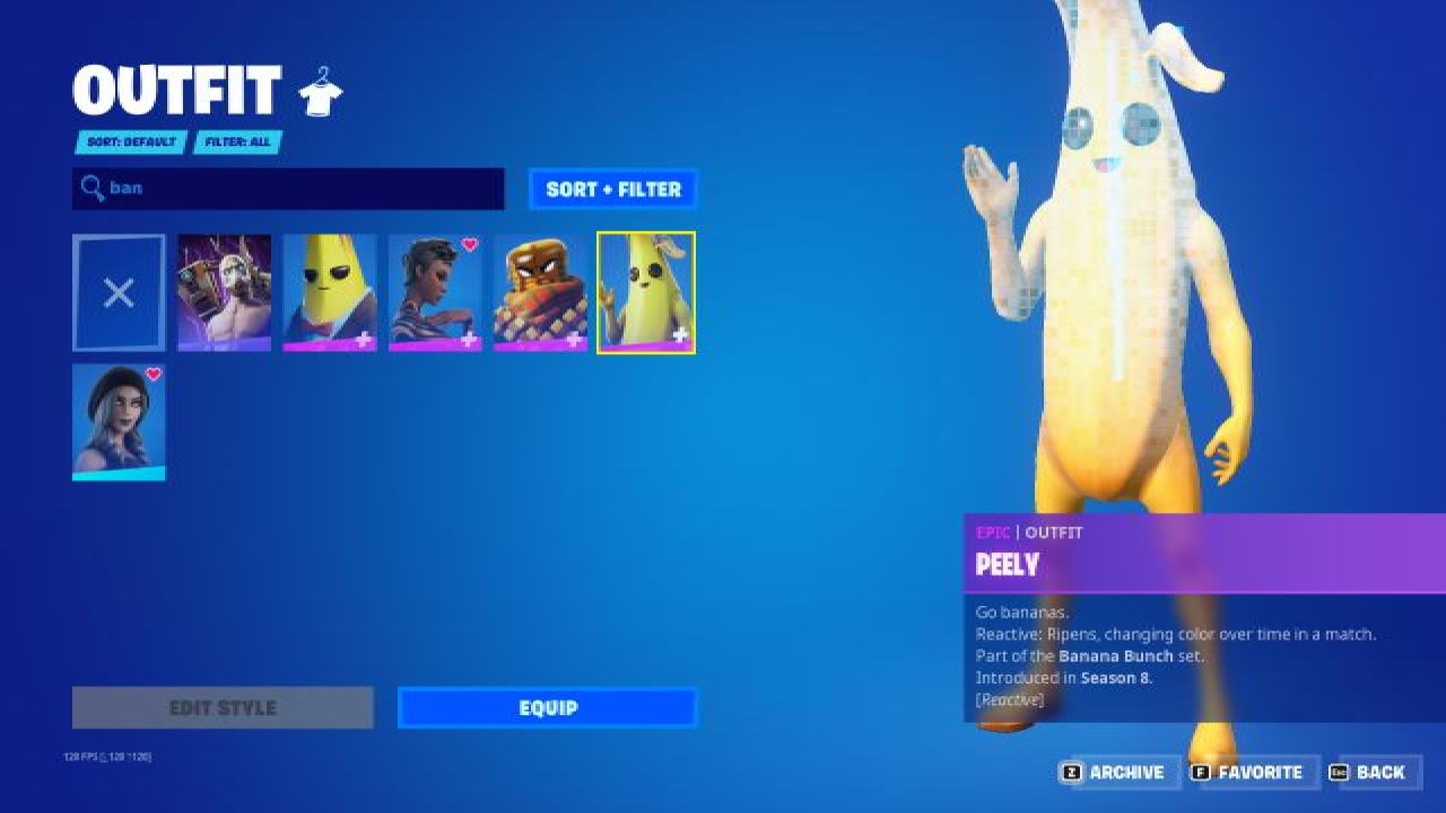player: (917, 41, 1306, 783)
